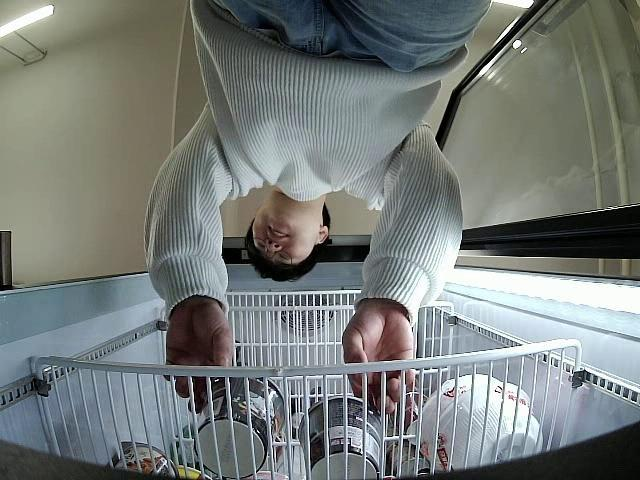08_buldak_S: (191, 375, 288, 480), (298, 396, 387, 480)
